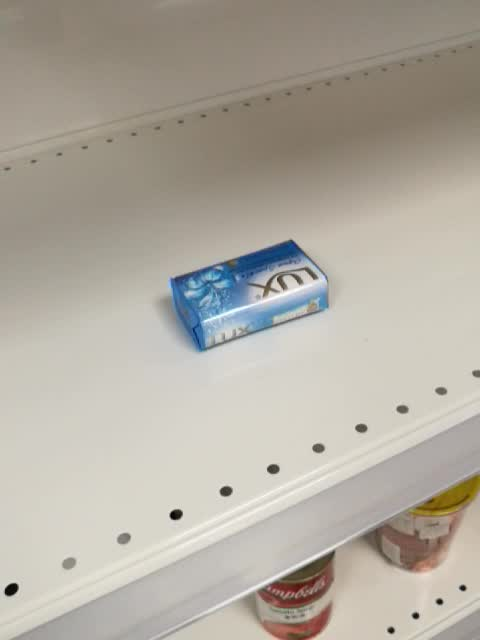soap: (169, 239, 330, 352)
